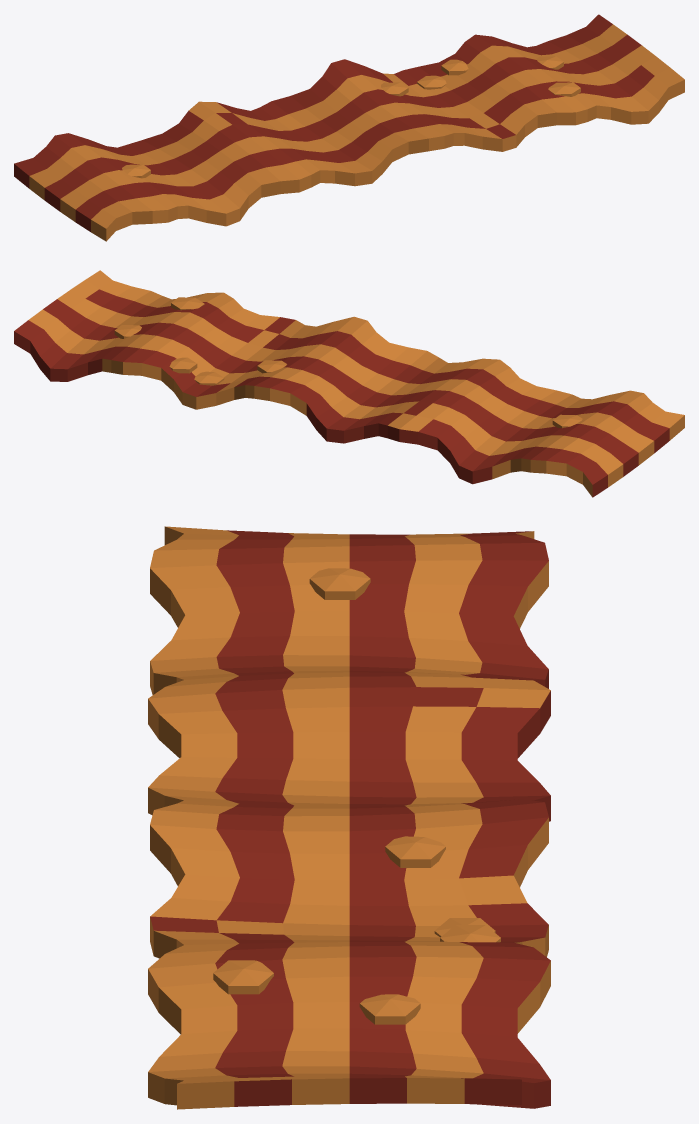
The model's file is bacon_cooked.glb.
3 views of the same model, one above another, from view 1: azimuth 30°, elevation 25°; view 2: azimuth 150°, elevation 25°; view 3: azimuth 270°, elevation 25° (orthographic). The views are drawn at different scales.
Visible parts, largest first — view 1: BaconCooked; view 2: BaconCooked; view 3: BaconCooked.
Boxes of the visible parts, x1,y1,x2,y2 form: BaconCooked: [14, 14, 684, 241]; BaconCooked: [14, 270, 684, 497]; BaconCooked: [148, 526, 550, 1109].
Size of the model in its own units: 4 by 0.3 by 1.2.
